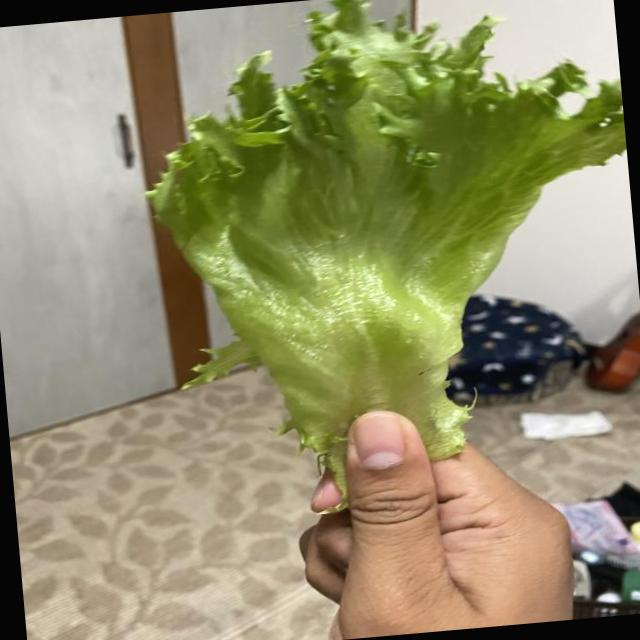Lettuce-Ready-to-Harvest: (147, 0, 626, 492)
